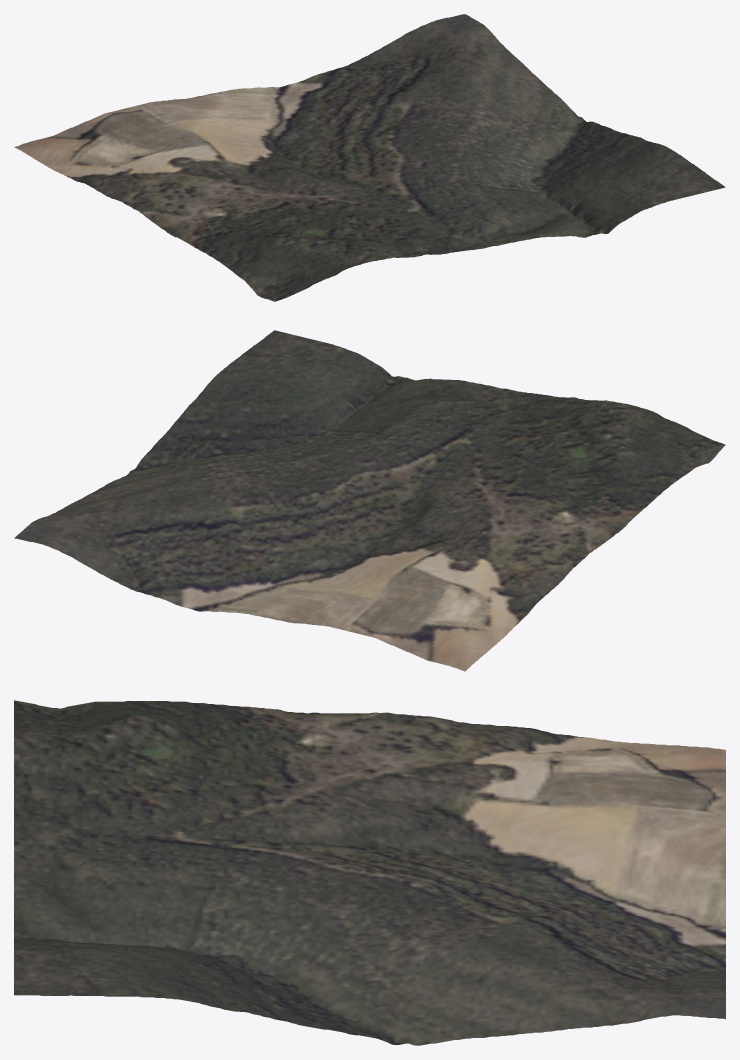
The model's file is tile_5_4.glb.
The picture shows the model from 3 angles, top to bottom: view 1: azimuth 30°, elevation 25°; view 2: azimuth 150°, elevation 25°; view 3: azimuth 270°, elevation 25°; orthographic projection. The views are drawn at different scales.
Parts seen in each view (by area): view 1: tile_5_4; view 2: tile_5_4; view 3: tile_5_4.
Part boxes in pixels (x1=…): tile_5_4: x1=14, y1=14, x2=725, y2=301; tile_5_4: x1=14, y1=330, x2=725, y2=671; tile_5_4: x1=14, y1=700, x2=725, y2=1045.
Size of the model in its own units: 1000 by 122 by 1000.
1 material, 1 textured.
